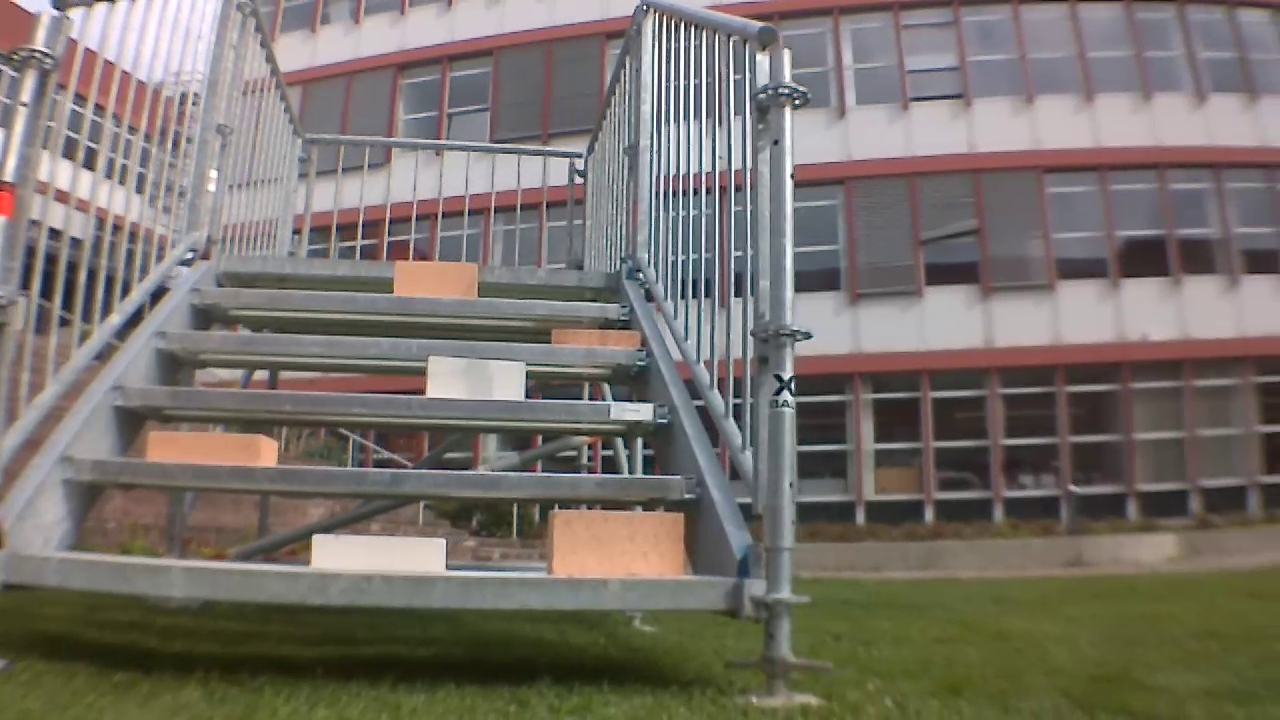brick: (546, 509, 687, 571), (307, 533, 452, 570), (145, 430, 285, 464), (413, 359, 533, 397), (391, 259, 487, 297), (541, 326, 644, 350)
edge: (7, 545, 741, 612), (61, 453, 703, 500), (111, 380, 675, 425), (157, 330, 659, 366), (191, 287, 631, 318), (222, 251, 611, 279)
stairs: (0, 2, 782, 635)
steps: (0, 253, 739, 607)
